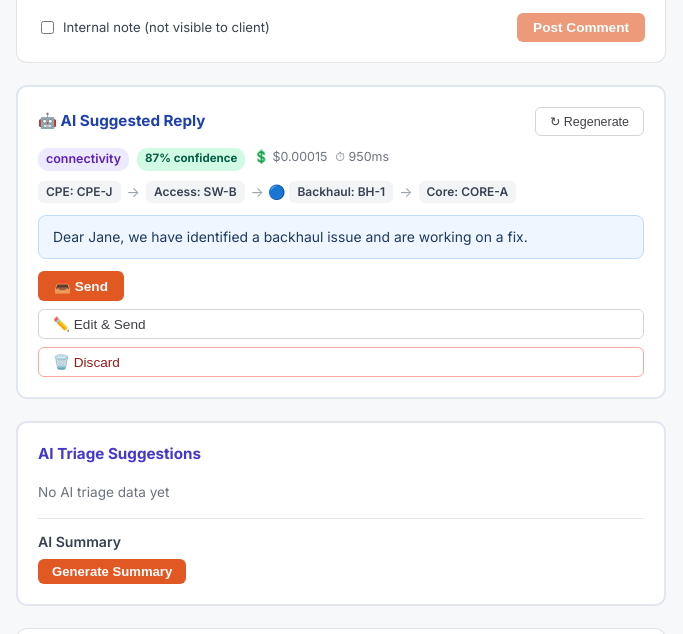
Test: AiSuggestedReplyPanel › shows success message after sending
(page scrolled)
Click the button labelled "📤 Send" at (81, 286), box top-left (38, 271), bottom-right (124, 301)
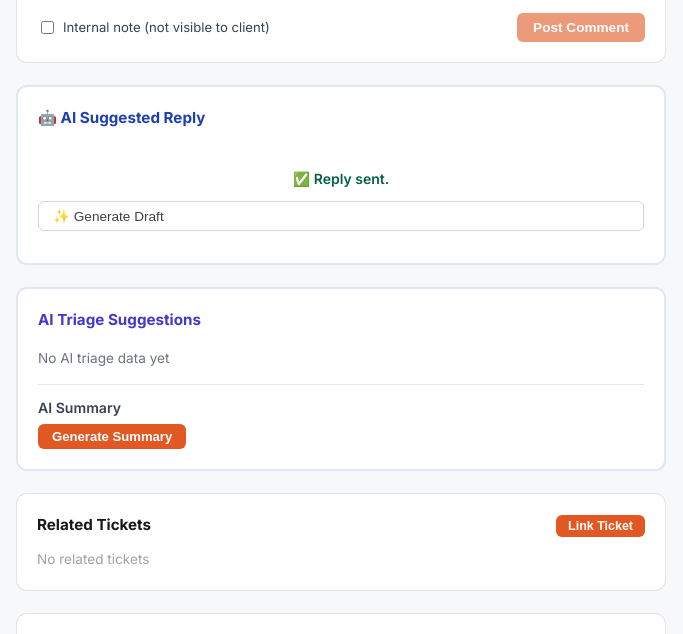
Result: the text "✅ Reply sent." is shown at top-left (293, 170), bottom-right (389, 187)
